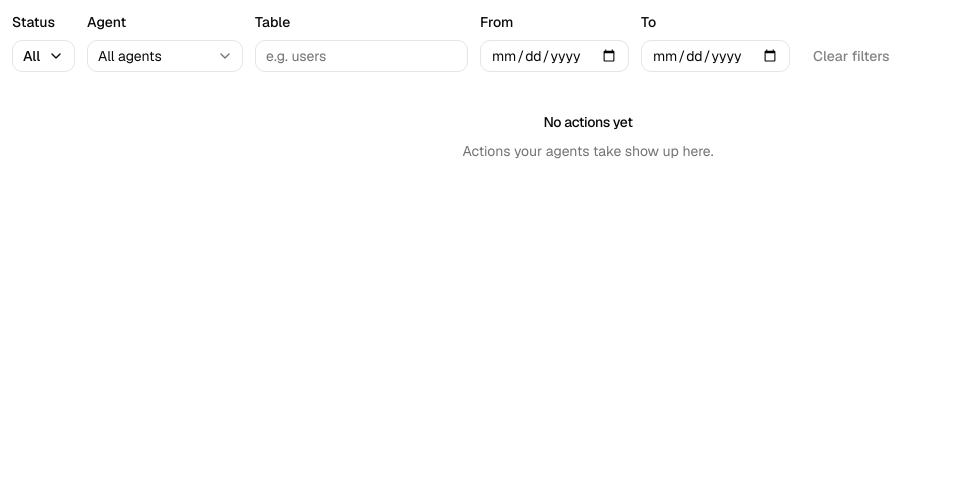
Test case: History: changing filters › toggles statuses in canonical order and labels the button
Press Enter in the button with aria-label "Status", box [12,40,75,72]
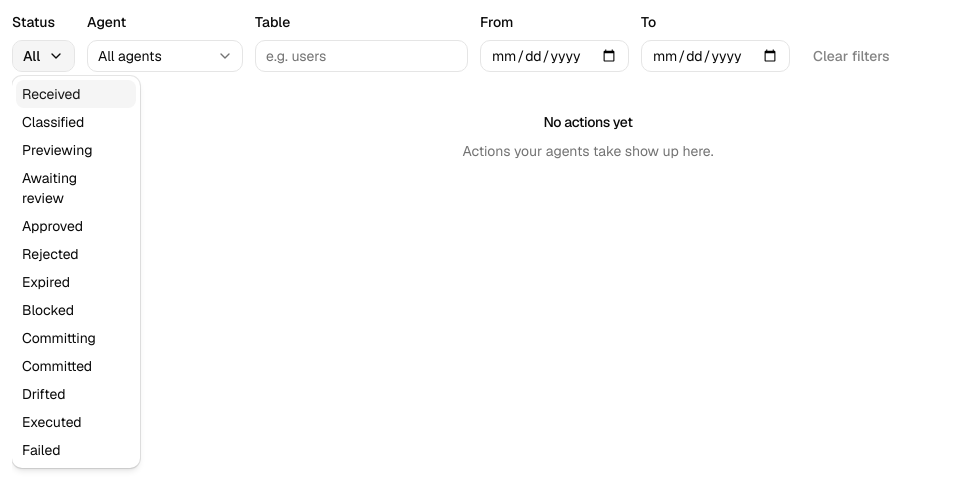
Click the menu item "Blocked" at (48, 310), box [22,301,74,319]
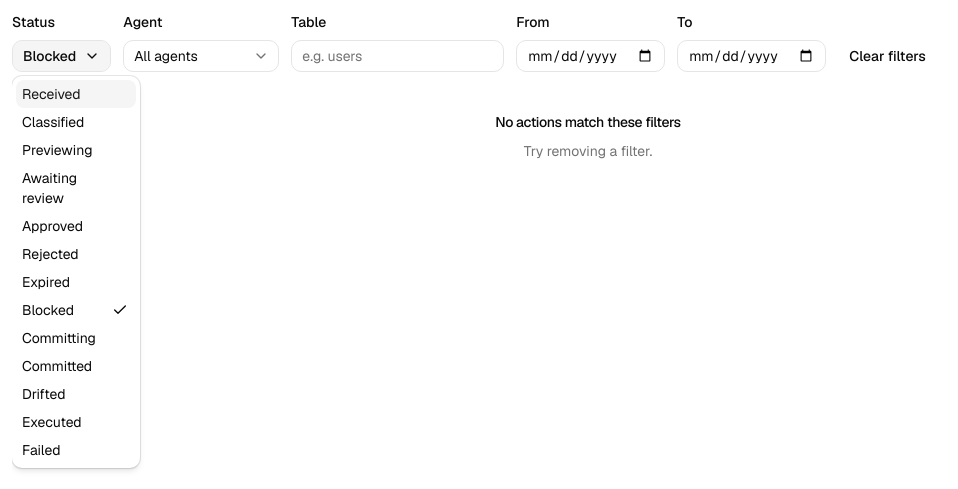
Check: the button with aria-label "Status" is expanded, box [12,40,111,72]
Click the menu item "Rejected" at (50, 254), box [22,245,79,263]
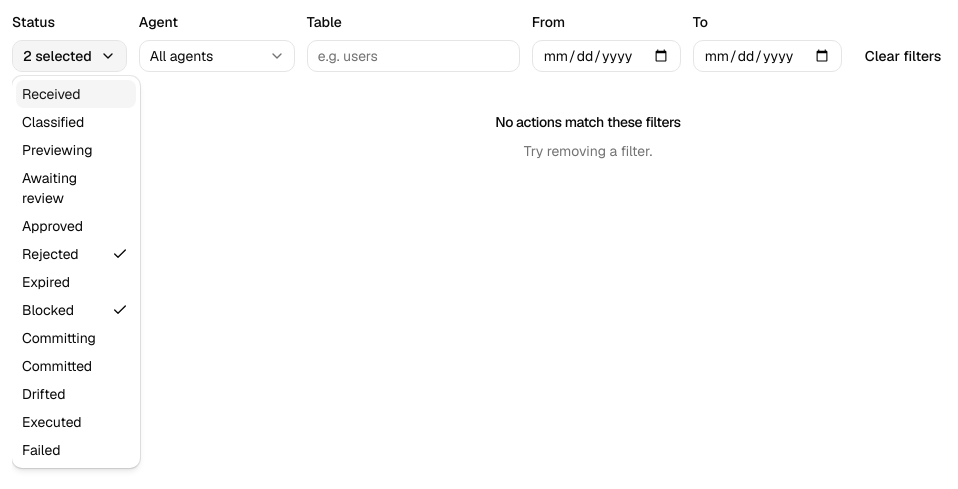
Check: the button with aria-label "Status: 2 selected" is shown, box [12,40,127,72]
Click the menu item "Blocked" at (76, 310), box [16,296,136,324]
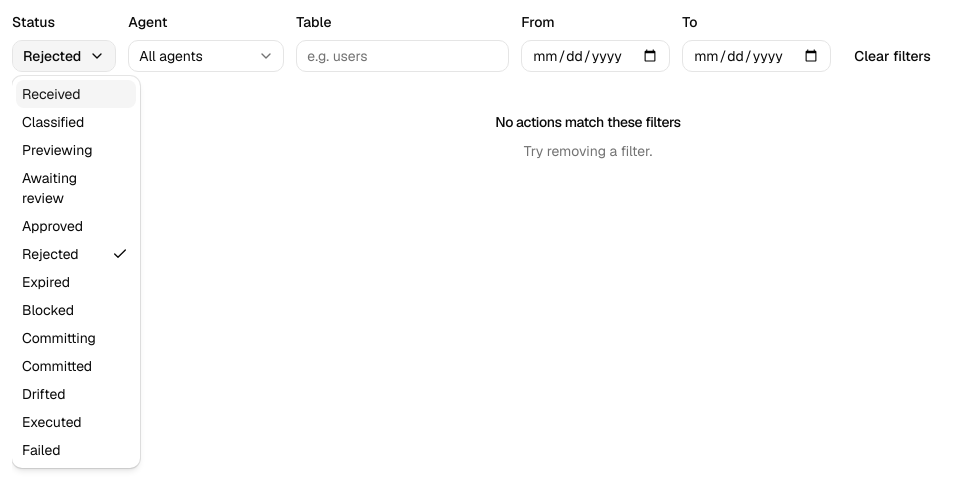
Check: the button with aria-label "Status: Rejected" is shown, box [12,40,116,72]
